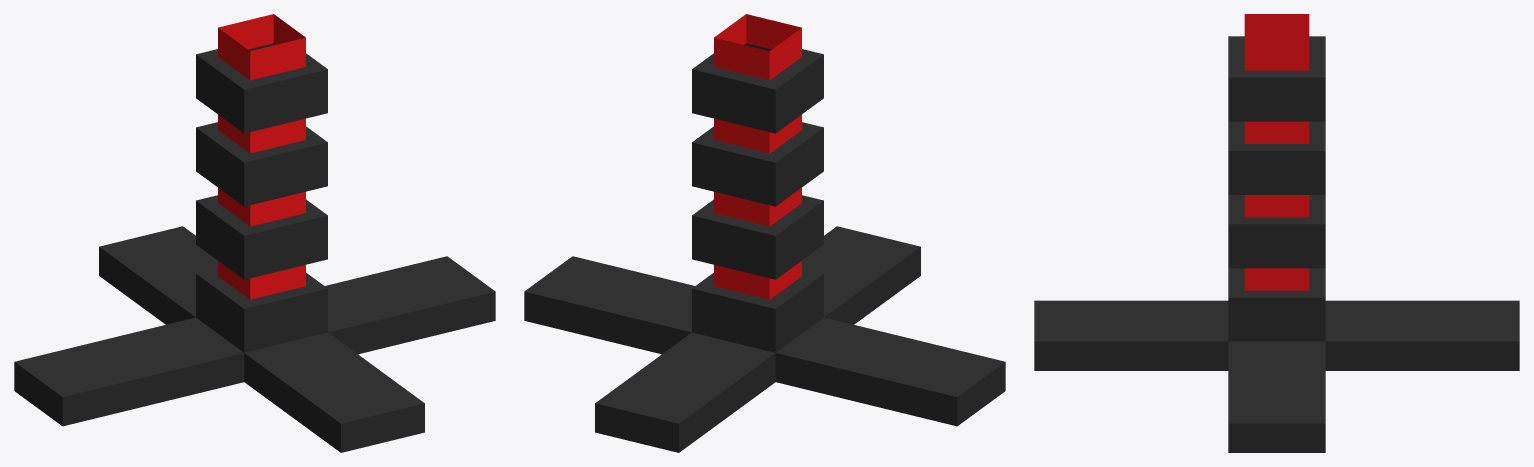
Rendered from TurretPole.fbx.
3 renders of one model, left to right at view 1: azimuth 30°, elevation 25°; view 2: azimuth 150°, elevation 25°; view 3: azimuth 270°, elevation 25°, orthographic.
Visible parts, largest first — view 1: Cube.001; view 2: Cube.001; view 3: Cube.001.
Part boxes in pixels (x1,y1,x2,y2): Cube.001: [14, 14, 495, 452]; Cube.001: [524, 14, 1005, 452]; Cube.001: [1034, 14, 1519, 452].
Size of the model in its own units: 3100 by 2200 by 3000.
